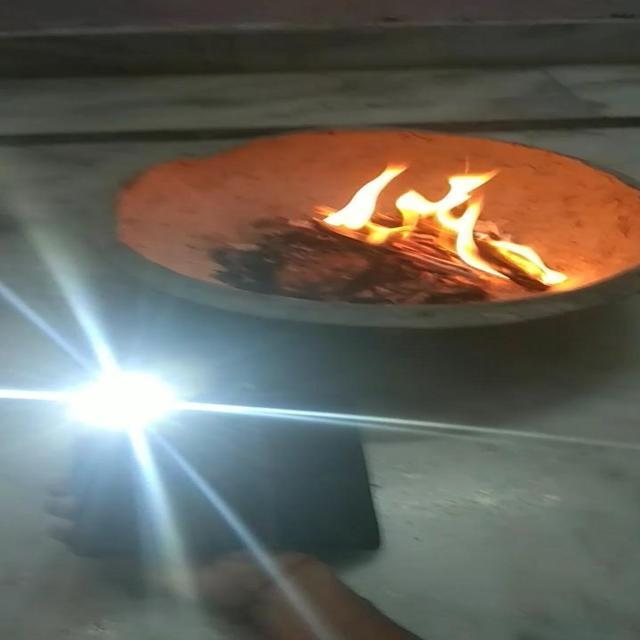smoke: (396, 165, 511, 282), (319, 159, 410, 230), (490, 237, 576, 286)
